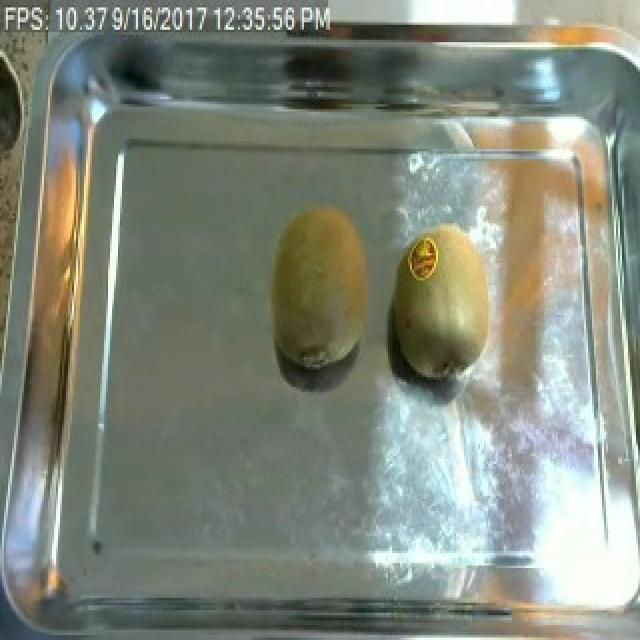Fruit: (258, 198, 382, 380), (386, 216, 504, 392)
